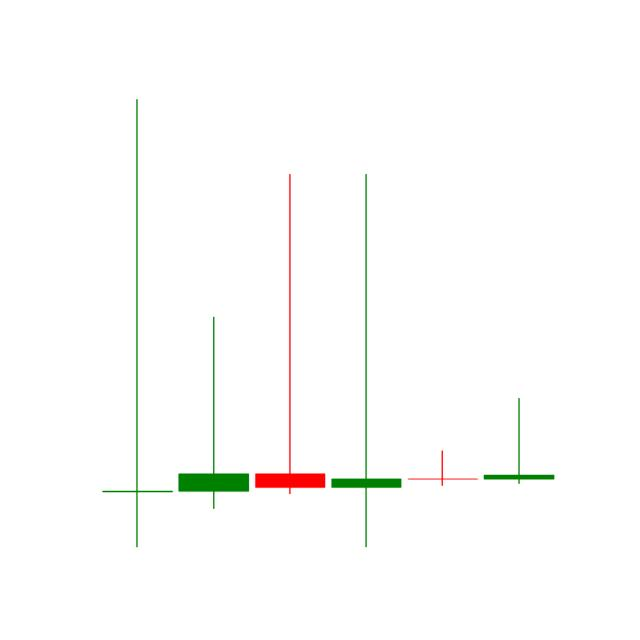Long-Legged Doji: (96, 91, 175, 554), (330, 168, 403, 547)
